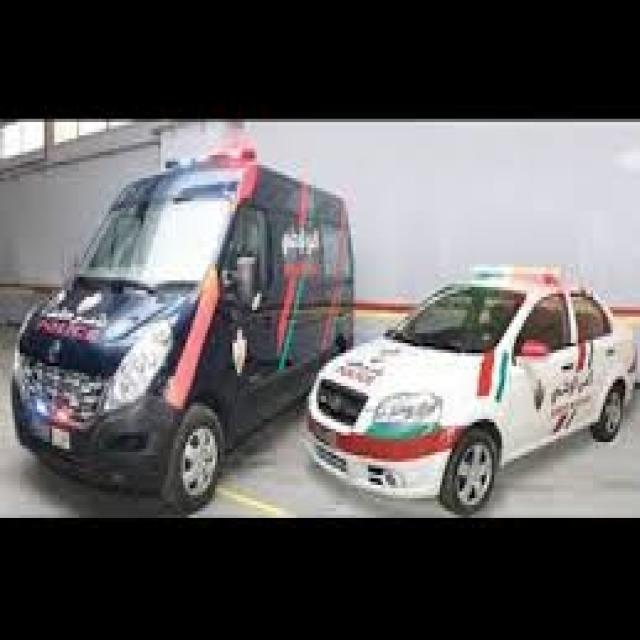police: (15, 145, 349, 507), (309, 266, 640, 509)
